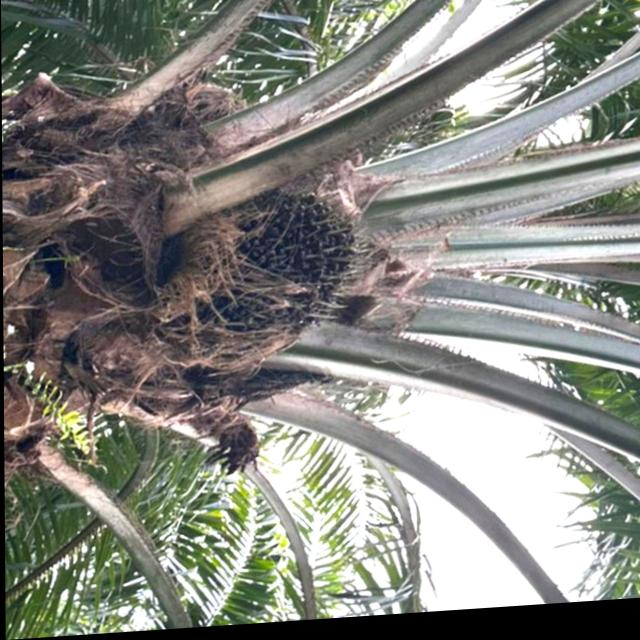almost: (150, 173, 367, 381)
